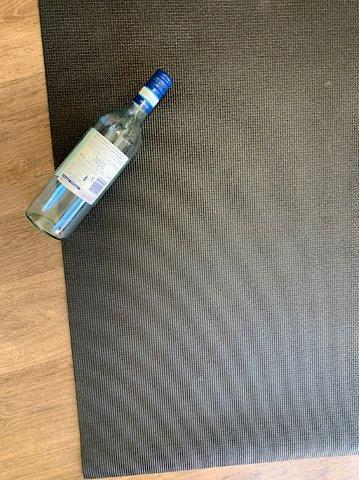botolkaca: (25, 71, 173, 241)
